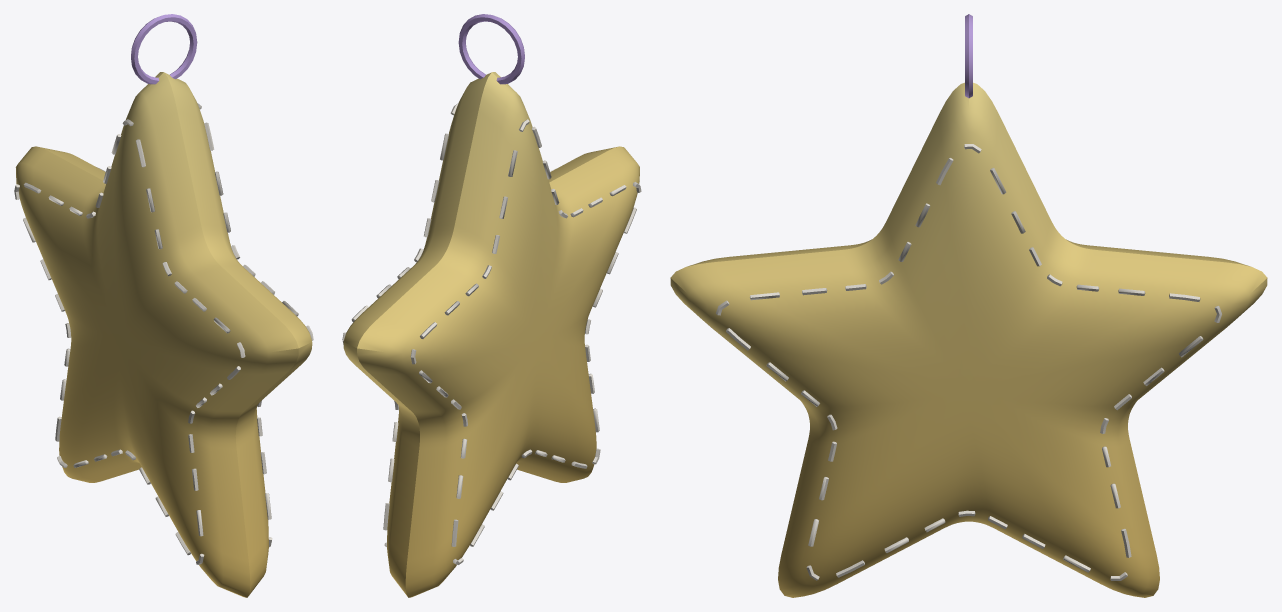
Rendered from W3_FeltStar_lod1.fbx.
3 renders of one model, left to right at view 1: azimuth 30°, elevation 25°; view 2: azimuth 150°, elevation 25°; view 3: azimuth 270°, elevation 25°, orthographic. The views are drawn at different scales.
Visible parts, largest first — view 1: W3_FeltStar.001; view 2: W3_FeltStar.001; view 3: W3_FeltStar.001.
Part boxes in pixels (bbox=[...]): W3_FeltStar.001: bbox=[14, 14, 313, 597]; W3_FeltStar.001: bbox=[342, 14, 641, 597]; W3_FeltStar.001: bbox=[670, 14, 1267, 597].
Bounding box in the file's own units: 0.068 × 0.3714 × 0.3464.
